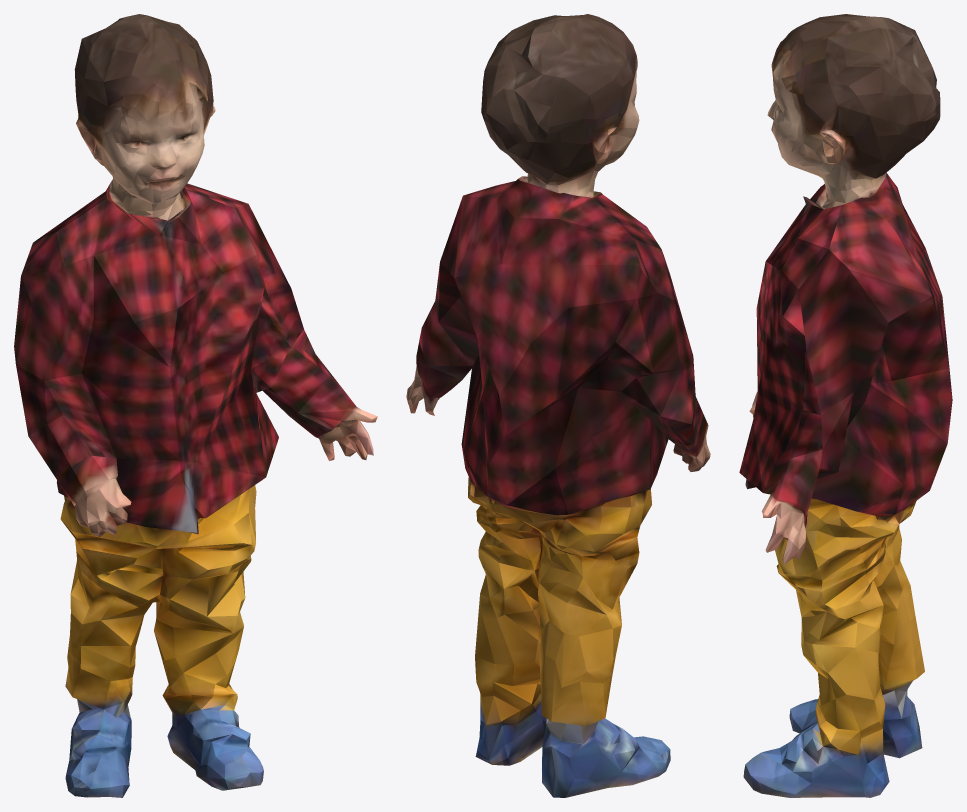
File: Boy4.glb
3 views of the same model, side by side, from view 1: azimuth 30°, elevation 25°; view 2: azimuth 150°, elevation 25°; view 3: azimuth 270°, elevation 25° (orthographic).
Visible parts, largest first — view 1: Boy4; view 2: Boy4; view 3: Boy4.
Boxes of the visible parts, x1=… form: Boy4: x1=14, y1=14, x2=377, y2=797; Boy4: x1=406, y1=14, x2=710, y2=797; Boy4: x1=739, y1=14, x2=952, y2=797.
Size of the model in its own units: 0.0657 by 0.1496 by 0.0389.
Materials: 1 (1 with a texture image).
